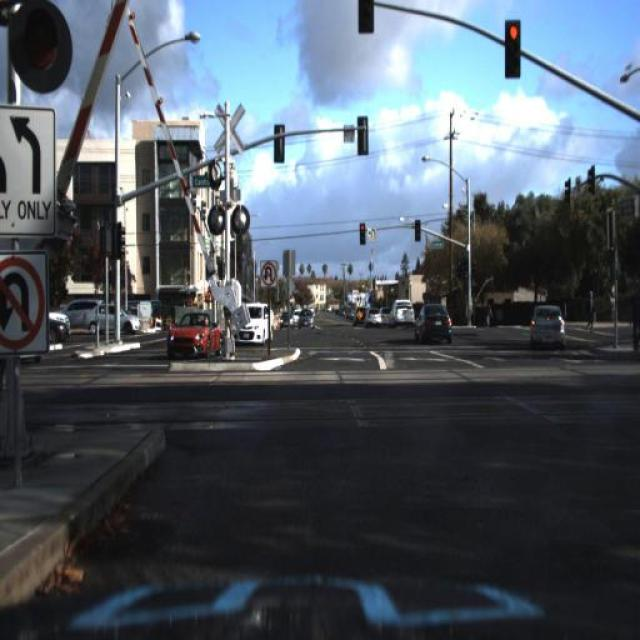car: (525, 290, 573, 362), (409, 290, 460, 356), (160, 310, 222, 364), (78, 302, 144, 342), (230, 298, 276, 347), (388, 297, 420, 339), (36, 316, 70, 346), (360, 302, 386, 336), (389, 296, 416, 328), (45, 325, 69, 359), (276, 302, 299, 328), (294, 302, 315, 330), (46, 310, 74, 330), (349, 301, 367, 328), (274, 309, 294, 332), (364, 303, 384, 326), (352, 303, 364, 331)
trafficLight: (584, 278, 600, 341), (582, 284, 597, 334), (480, 294, 496, 336)
trafficLight-Green: (0, 0, 106, 101), (503, 18, 521, 78), (356, 210, 372, 250), (412, 214, 422, 242)
trafficLight-GreenLeft: (459, 250, 470, 282)
trafficLight-RedLeft: (496, 12, 529, 87)
